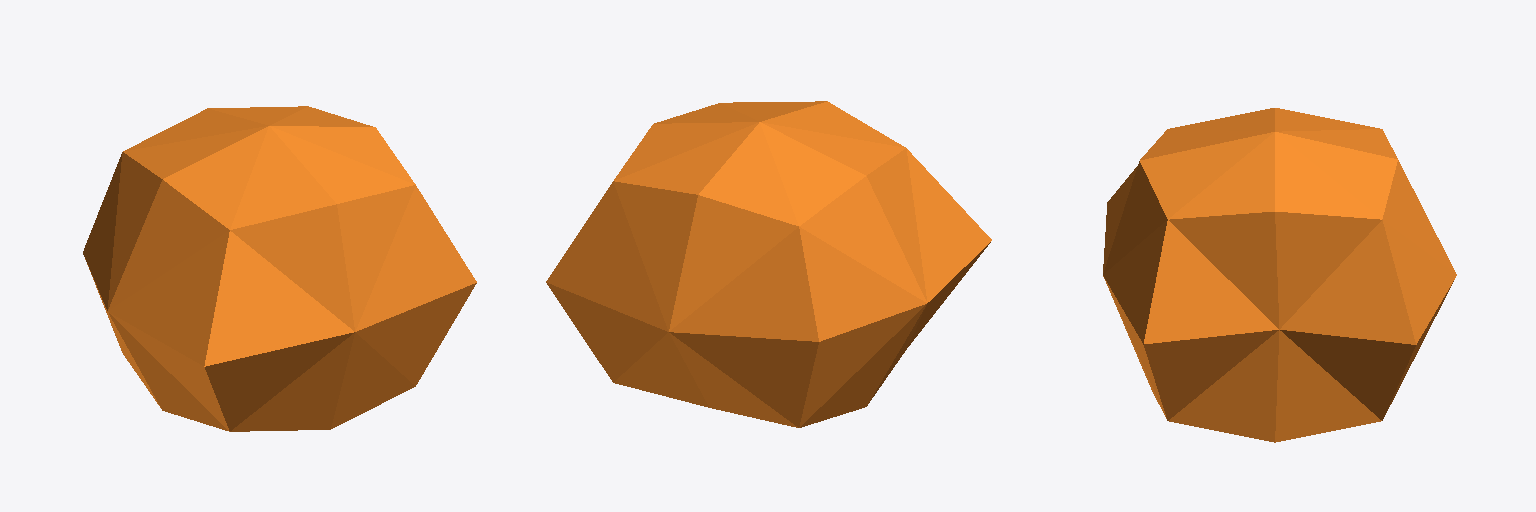
3 views of the same model, side by side, from view 1: azimuth 30°, elevation 25°; view 2: azimuth 150°, elevation 25°; view 3: azimuth 270°, elevation 25° (orthographic).
Visible parts, largest first — view 1: debris2; view 2: debris2; view 3: debris2.
Boxes of the visible parts, box(x1,y1,x2,y2) form: debris2: box(83, 106, 476, 431); debris2: box(546, 101, 991, 427); debris2: box(1103, 108, 1456, 442).
Size of the model in its own units: 0.7409 by 0.5954 by 0.7381.
1 materials, 1 textured.